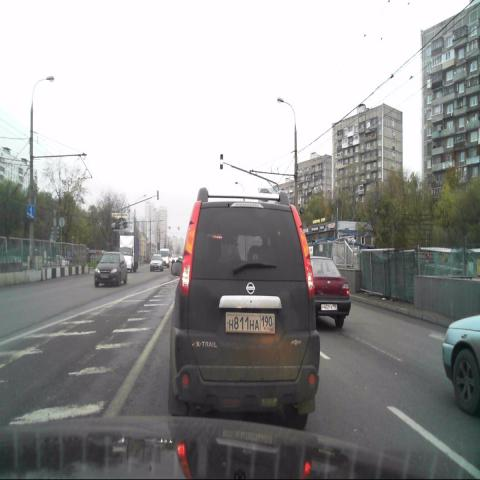6_6: (28, 203, 35, 218)
